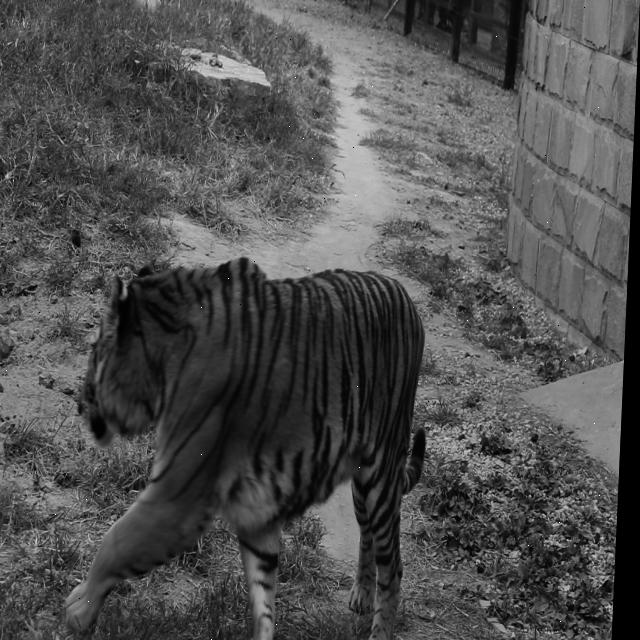Tiger: (62, 255, 434, 638)
